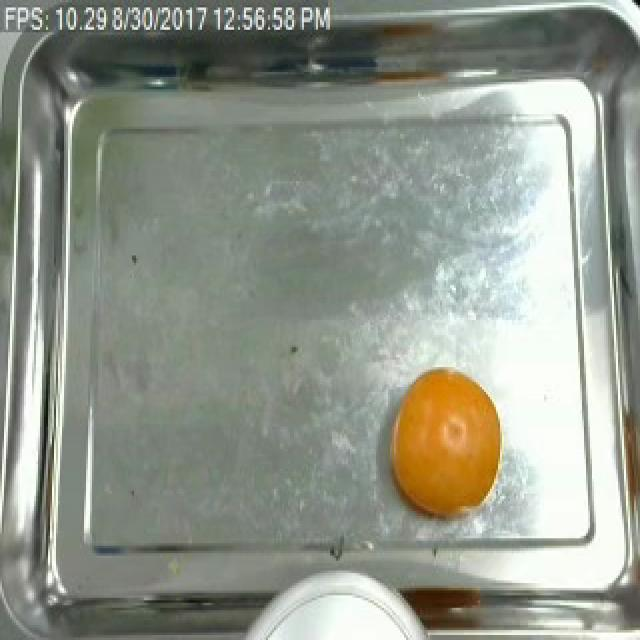Fruit: (386, 364, 508, 518)
